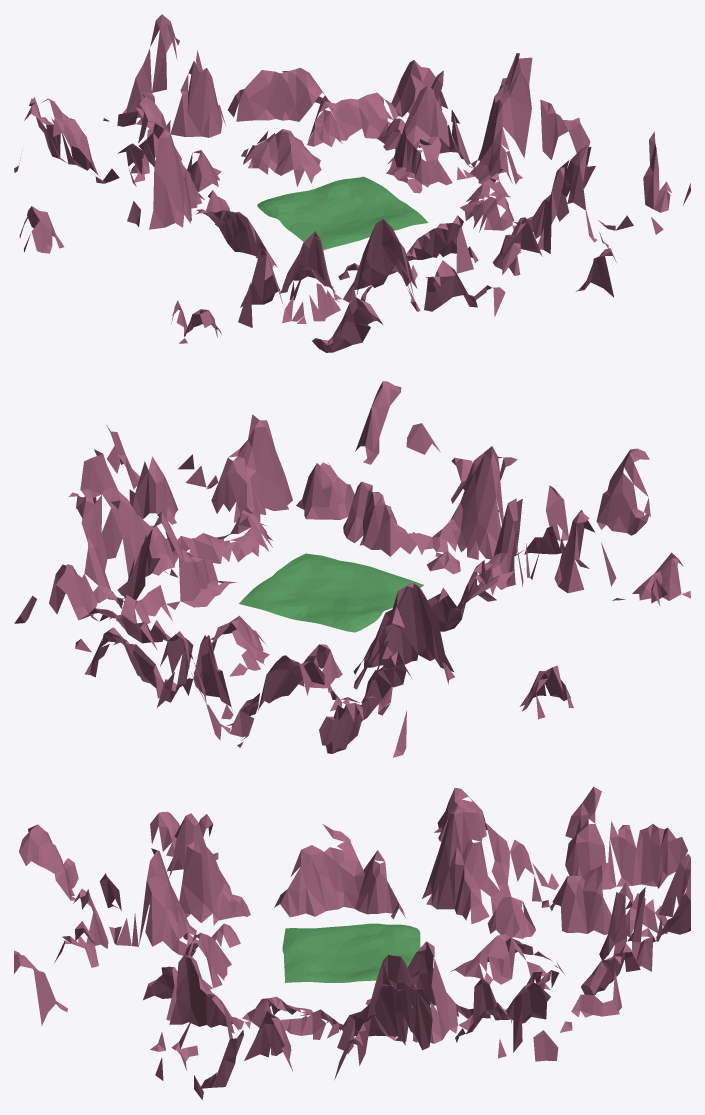
File: terrain.glb
3 views of the same model, one above another, from view 1: azimuth 30°, elevation 25°; view 2: azimuth 150°, elevation 25°; view 3: azimuth 270°, elevation 25° (orthographic). The views are drawn at different scales.
Parts seen in each view (by area): view 1: 1-Mountains, 0-Field; view 2: 1-Mountains, 0-Field; view 3: 1-Mountains, 0-Field.
Part boxes in pixels (x1=…): 1-Mountains: x1=14, y1=14, x2=690, y2=352; 0-Field: x1=257, y1=176, x2=428, y2=250; 1-Mountains: x1=14, y1=381, x2=690, y2=757; 0-Field: x1=239, y1=553, x2=423, y2=632; 1-Mountains: x1=14, y1=786, x2=690, y2=1099; 0-Field: x1=282, y1=923, x2=420, y2=982.
Bounding box in the file's own units: 499 × 93.92 × 506.
